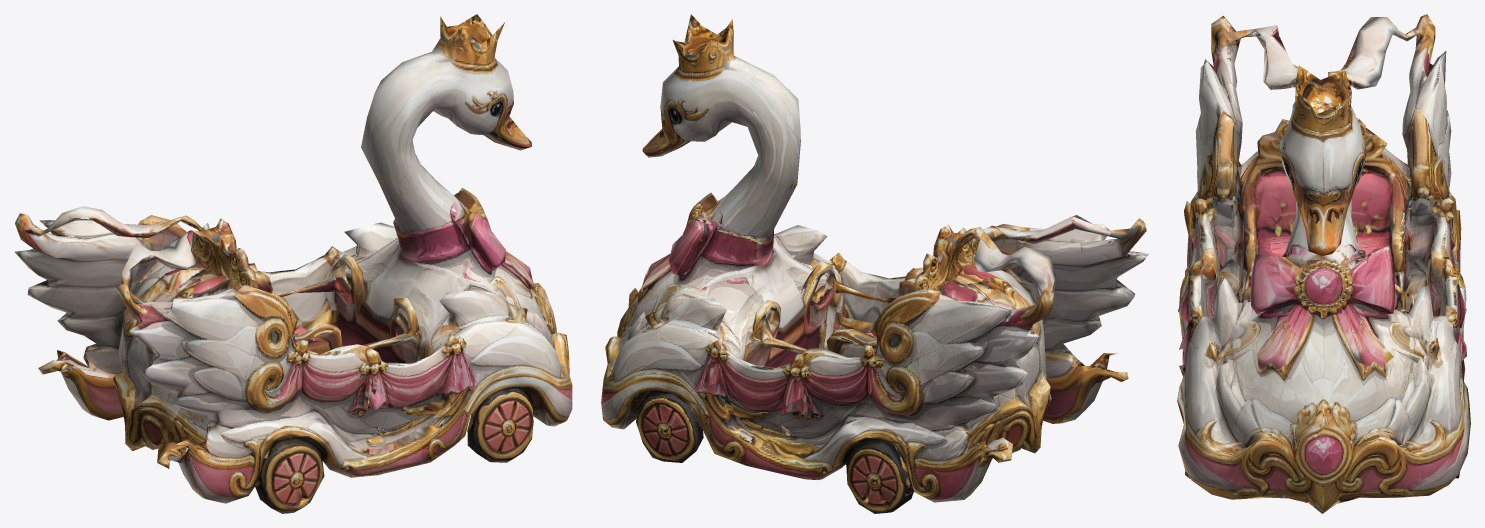
The model's file is 롯데_퍼레이드카2.glb.
3 renders of one model, left to right at view 1: azimuth 30°, elevation 25°; view 2: azimuth 150°, elevation 25°; view 3: azimuth 270°, elevation 25°, orthographic. The views are drawn at different scales.
Parts seen in each view (by area): view 1: texture_mapping; view 2: texture_mapping; view 3: texture_mapping.
Part boxes in pixels (bbox=[...]): texture_mapping: bbox=[15, 14, 572, 513]; texture_mapping: bbox=[601, 14, 1148, 513]; texture_mapping: bbox=[1177, 14, 1470, 513].
Size of the model in its own units: 1 by 0.7806 by 0.5001.
Materials: 1 (1 with a texture image).
